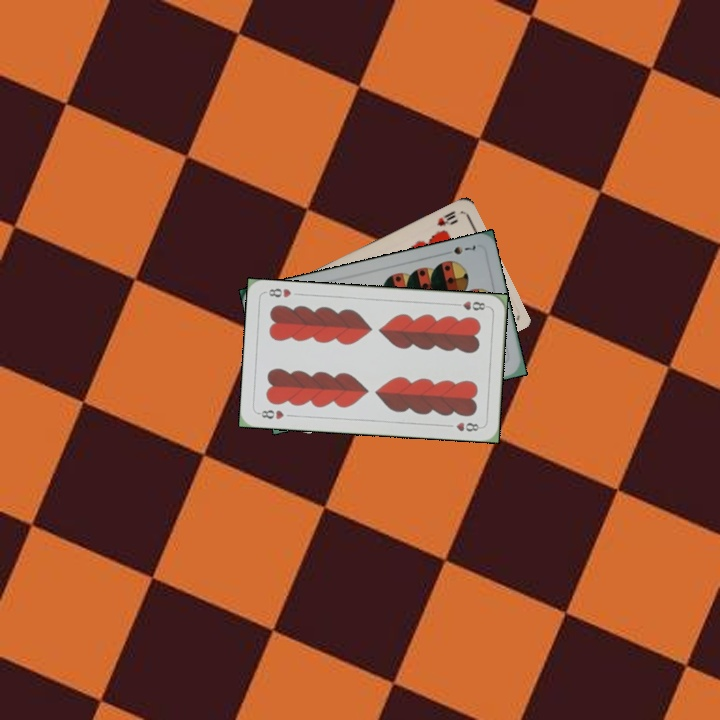H10: (433, 207, 460, 229)
H8: (450, 297, 490, 313), (254, 406, 286, 422)
S7: (439, 241, 478, 257)
